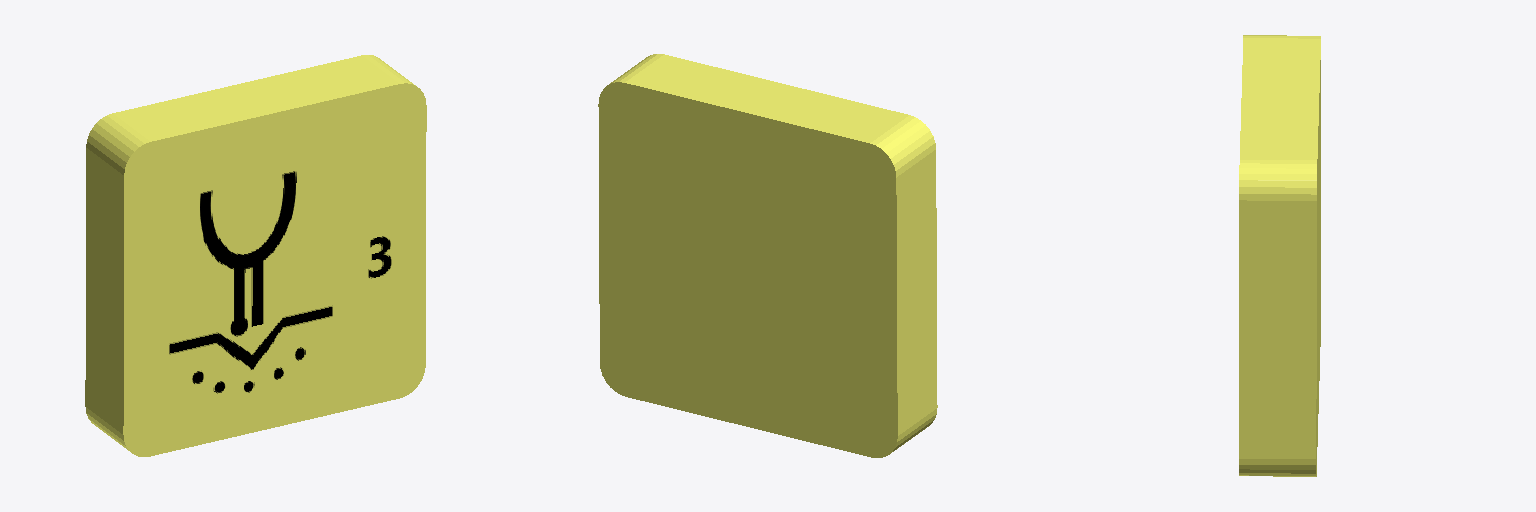
The picture shows the model from 3 angles: view 1: azimuth 30°, elevation 25°; view 2: azimuth 150°, elevation 25°; view 3: azimuth 270°, elevation 25°; orthographic projection.
Size of the model in its own units: 5.39 by 5.38 by 1.28.
Materials: 1 (1 with a texture image).